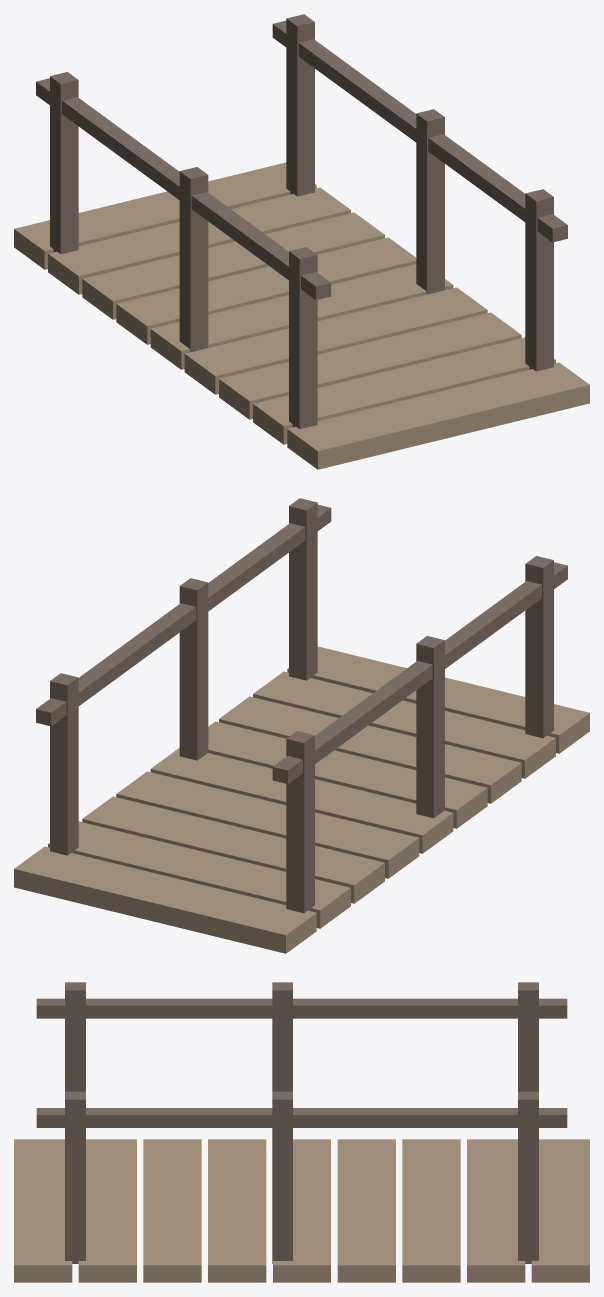
Rendered from passarela_guarda.glb.
3 renders of one model, top to bottom at view 1: azimuth 30°, elevation 25°; view 2: azimuth 150°, elevation 25°; view 3: azimuth 270°, elevation 25°, orthographic. The views are drawn at different scales.
Visible parts, largest first — view 1: passarela_guarda_part_008, passarela_guarda_part_005, passarela_guarda_part_006, passarela_guarda_part_007, passarela_guarda_part_001, passarela_guarda_part_002, passarela_guarda_part_003, passarela_guarda_part_004, passarela_guarda_part_000, passarela_guarda_part_016, passarela_guarda_part_012, passarela_guarda_part_010 (+5 smaller); view 2: passarela_guarda_part_000, passarela_guarda_part_003, passarela_guarda_part_002, passarela_guarda_part_001, passarela_guarda_part_004, passarela_guarda_part_007, passarela_guarda_part_006, passarela_guarda_part_005, passarela_guarda_part_016, passarela_guarda_part_012, passarela_guarda_part_008, passarela_guarda_part_014 (+5 smaller); view 3: passarela_guarda_part_012, passarela_guarda_part_016, passarela_guarda_part_002, passarela_guarda_part_003, passarela_guarda_part_005, passarela_guarda_part_006, passarela_guarda_part_000, passarela_guarda_part_001, passarela_guarda_part_007, passarela_guarda_part_008, passarela_guarda_part_004, passarela_guarda_part_013 (+5 smaller).
Boxes of the visible parts, box(x1,y1,x2,y2) form: passarela_guarda_part_008: box(287, 362, 589, 469); passarela_guarda_part_005: box(184, 287, 487, 394); passarela_guarda_part_006: box(219, 312, 521, 419); passarela_guarda_part_007: box(253, 337, 555, 444); passarela_guarda_part_001: box(48, 187, 350, 294); passarela_guarda_part_002: box(82, 212, 384, 319); passarela_guarda_part_003: box(116, 237, 416, 344); passarela_guarda_part_004: box(150, 264, 453, 369); passarela_guarda_part_000: box(14, 162, 316, 269); passarela_guarda_part_016: box(272, 20, 567, 242); passarela_guarda_part_012: box(36, 78, 331, 299); passarela_guarda_part_010: box(179, 167, 208, 352); passarela_guarda_part_000: box(14, 846, 316, 953); passarela_guarda_part_003: box(116, 771, 419, 878); passarela_guarda_part_002: box(82, 796, 384, 903); passarela_guarda_part_001: box(48, 821, 350, 928); passarela_guarda_part_004: box(150, 748, 453, 853); passarela_guarda_part_007: box(253, 671, 555, 778); passarela_guarda_part_006: box(219, 696, 521, 803); passarela_guarda_part_005: box(208, 721, 487, 828); passarela_guarda_part_016: box(36, 504, 331, 726); passarela_guarda_part_012: box(272, 562, 567, 783); passarela_guarda_part_008: box(287, 646, 589, 753); passarela_guarda_part_014: box(179, 578, 208, 760); passarela_guarda_part_012: box(36, 998, 567, 1018); passarela_guarda_part_016: box(36, 1108, 567, 1127); passarela_guarda_part_002: box(402, 1139, 460, 1282); passarela_guarda_part_003: box(337, 1139, 395, 1282); passarela_guarda_part_005: box(208, 1139, 266, 1282); passarela_guarda_part_006: box(143, 1139, 201, 1282); passarela_guarda_part_000: box(531, 1139, 589, 1282); passarela_guarda_part_001: box(467, 1139, 525, 1282); passarela_guarda_part_007: box(78, 1139, 136, 1282); passarela_guarda_part_008: box(14, 1139, 72, 1282); passarela_guarda_part_004: box(273, 1139, 330, 1282); passarela_guarda_part_013: box(518, 1091, 538, 1263).
Size of the model in its own units: 2.3 by 1.53 by 4.45.
